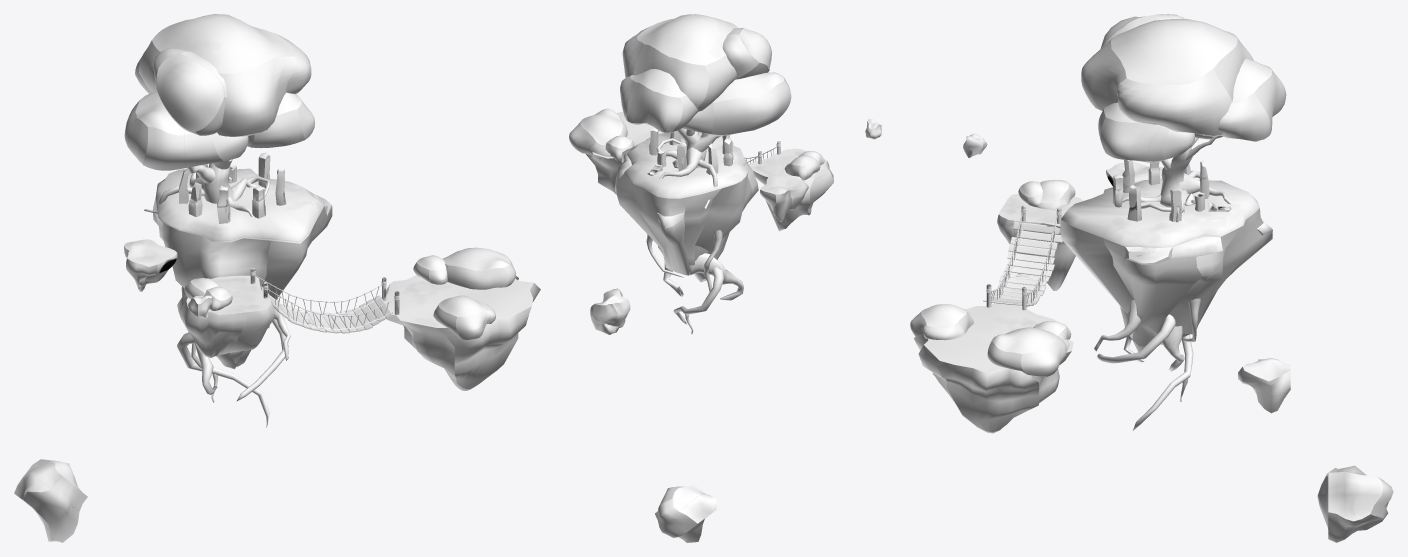
File: EilandjeEindRenderV2.fbx
3 renders of one model, left to right at view 1: azimuth 30°, elevation 25°; view 2: azimuth 150°, elevation 25°; view 3: azimuth 270°, elevation 25°, orthographic. The views are drawn at different scales.
Visible parts, largest first — view 1: TreeLeafs, MainIsland, BridgeislandBig, BridgeIslandSmall, Rubble2, Bush1, TreeRoots, Bridge1, Tree, Bush, RoutteIsland, bush; view 2: TreeLeafs, MainIsland, Rubble2, TreeRoots, BridgeIslandSmall, Bush1, Tree, RoutteIsland, Rubble1, BridgeislandBig, Bush2, bush; view 3: TreeLeafs, MainIsland, BridgeislandBig, Rubble2, TreeRoots, Bridge1, Bush1, BridgeIslandSmall, Tree, Rubble1, Bush, Bush2.
Boxes of the visible parts, bbox=[...] form: TreeLeafs: bbox=[124, 14, 314, 170]; MainIsland: bbox=[153, 168, 332, 366]; BridgeislandBig: bbox=[384, 275, 540, 390]; BridgeIslandSmall: bbox=[177, 275, 274, 369]; Rubble2: bbox=[14, 459, 87, 542]; Bush1: bbox=[443, 247, 515, 289]; TreeRoots: bbox=[177, 286, 290, 427]; Bridge1: bbox=[261, 286, 393, 333]; Tree: bbox=[144, 159, 270, 217]; Bush: bbox=[433, 295, 495, 339]; RoutteIsland: bbox=[124, 239, 177, 291]; bush: bbox=[413, 255, 447, 284]; TreeLeafs: bbox=[620, 14, 791, 136]; MainIsland: bbox=[615, 132, 758, 282]; Rubble2: bbox=[655, 483, 716, 542]; TreeRoots: bbox=[646, 230, 743, 333]; BridgeIslandSmall: bbox=[749, 148, 833, 231]; Bush1: bbox=[569, 108, 627, 159]; Tree: bbox=[656, 128, 727, 209]; RoutteIsland: bbox=[760, 175, 808, 221]; Rubble1: bbox=[590, 288, 630, 334]; BridgeislandBig: bbox=[586, 111, 665, 194]; Bush2: bbox=[784, 155, 820, 180]; bush: bbox=[605, 135, 634, 160]; TreeLeafs: bbox=[1081, 14, 1286, 162]; MainIsland: bbox=[1060, 178, 1272, 352]; BridgeislandBig: bbox=[914, 303, 1073, 433]; Rubble2: bbox=[1317, 465, 1393, 542]; TreeRoots: bbox=[1094, 298, 1200, 430]; Bridge1: bbox=[983, 221, 1062, 305]; Bush1: bbox=[987, 327, 1069, 376]; BridgeIslandSmall: bbox=[997, 194, 1083, 290]; Tree: bbox=[1122, 136, 1233, 214]; Rubble1: bbox=[1238, 358, 1290, 413]; Bush: bbox=[910, 304, 973, 340]; Bush2: bbox=[1037, 180, 1075, 209].
Size of the model in its own units: 55.71 by 83.29 by 65.79.
